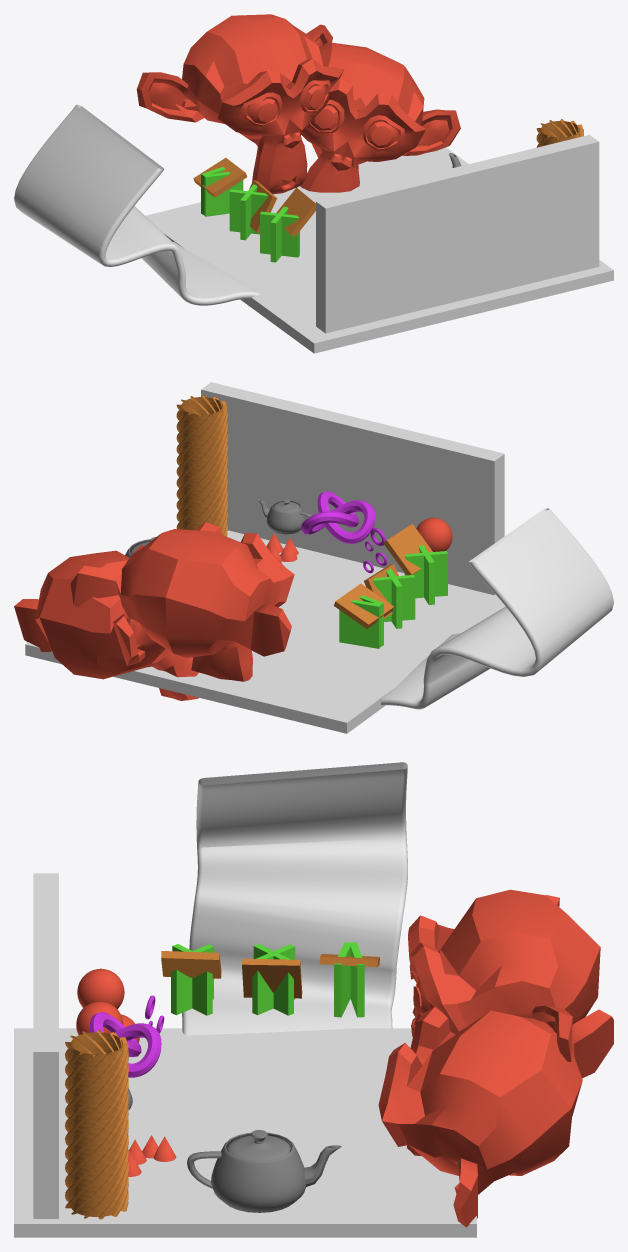
File: move_and_slide_level.glb
3 renders of one model, top to bottom at view 1: azimuth 30°, elevation 25°; view 2: azimuth 150°, elevation 25°; view 3: azimuth 270°, elevation 25°, orthographic. The views are drawn at different scales.
Parts seen in each view (by area): view 1: Cube.001, Suzanne, BézierCurve, Cube, Suzanne.001, Cube.007, Worm Gear, Cube.008, Cube.005, Cube.010, Cube.002, Cube.006 (+2 smaller); view 2: Cube.001, Cube, Suzanne, BézierCurve, Suzanne.001, Worm Gear, TorusKnot, Cube.004, Teapot, Cube.008, Cube.010, Cube.006 (+4 smaller); view 3: Cube, BézierCurve, Suzanne.001, Suzanne, Worm Gear, Cube.001, Teapot.001, TorusKnot, Cube.009, Sphere.001, Cube.008, Cube.002 (+6 smaller).
Boxes of the visible parts, <box> form: Cube.001: <box>316,135,599,333</box>; Suzanne: <box>136,14,343,194</box>; BézierCurve: <box>14,104,260,305</box>; Cube: <box>145,147,613,353</box>; Suzanne.001: <box>300,42,460,192</box>; Cube.007: <box>260,211,299,257</box>; Worm Gear: <box>536,119,583,147</box>; Cube.008: <box>276,187,315,237</box>; Cube.005: <box>204,171,243,216</box>; Cube.010: <box>193,157,247,197</box>; Cube.002: <box>229,189,267,234</box>; Cube.006: <box>270,206,288,262</box>; Cube.001: <box>201,382,504,595</box>; Cube: <box>25,530,505,733</box>; Suzanne: <box>70,522,294,681</box>; BézierCurve: <box>381,508,613,709</box>; Suzanne.001: <box>14,545,198,700</box>; Worm Gear: <box>176,395,227,536</box>; TorusKnot: <box>301,491,374,543</box>; Cube.004: <box>339,600,381,648</box>; Teapot: <box>257,499,311,534</box>; Cube.008: <box>383,524,432,575</box>; Cube.010: <box>333,583,393,628</box>; Cube.006: <box>404,551,447,598</box>; Cube: <box>14,1028,476,1237</box>; BézierCurve: <box>182,762,407,1035</box>; Suzanne.001: <box>378,1007,613,1227</box>; Suzanne: <box>408,889,600,1062</box>; Worm Gear: <box>65,1030,128,1219</box>; Cube.001: <box>33,873,58,1218</box>; Teapot.001: <box>187,1130,341,1212</box>; TorusKnot: <box>89,1012,161,1077</box>; Cube.009: <box>242,958,302,998</box>; Sphere.001: <box>77,968,124,1008</box>; Cube.008: <box>161,951,221,978</box>; Cube.002: <box>252,944,295,1015</box>.
Size of the model in its own units: 95.8 by 36.75 by 79.44.
